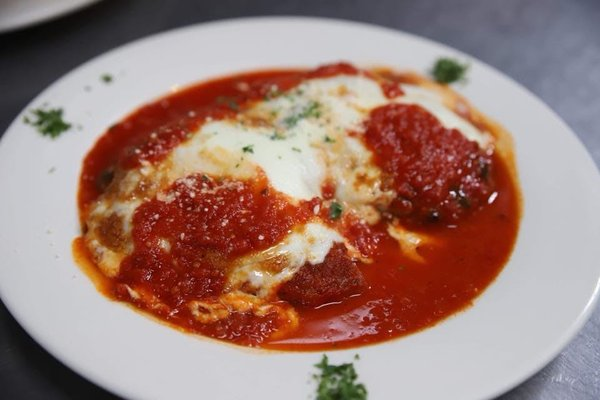curry: (22, 104, 73, 140)
